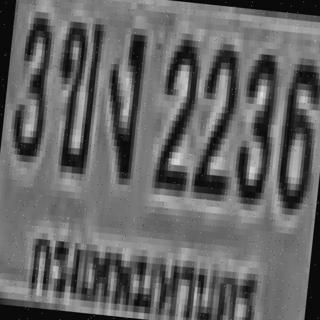A02: (48, 14, 103, 168)
A07: (98, 20, 148, 179)
N02: (152, 28, 202, 188), (191, 39, 240, 192)
N03: (230, 46, 279, 199), (8, 7, 54, 153)
N06: (271, 50, 320, 210)
P04: (24, 208, 268, 320)
